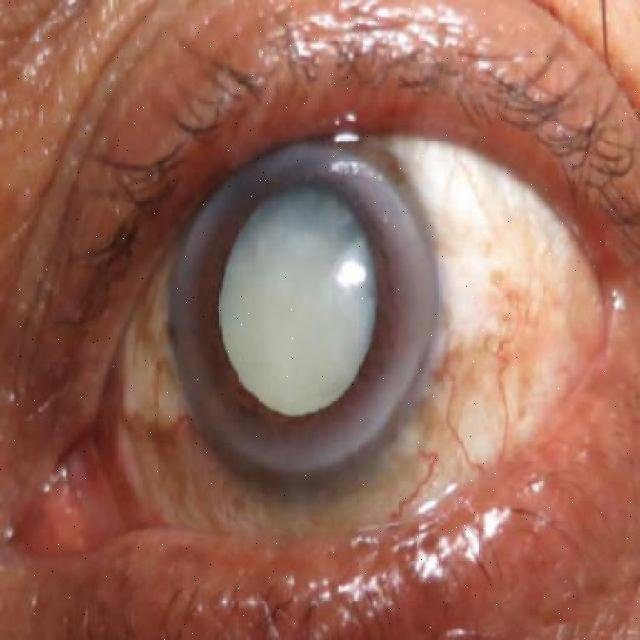Cataract: (168, 142, 438, 485)
